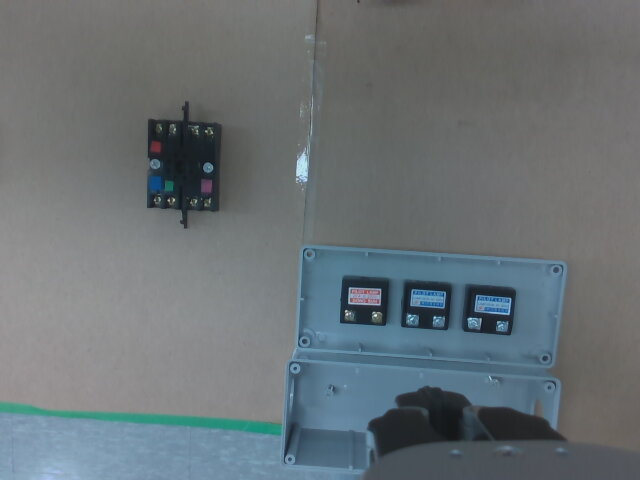L1(1): (344, 310, 356, 321)
L1(2): (371, 312, 382, 323)
L2(1): (407, 314, 418, 325)
L2(2): (433, 316, 445, 327)
L3(1): (469, 318, 481, 329)
L3(2): (497, 321, 508, 331)
